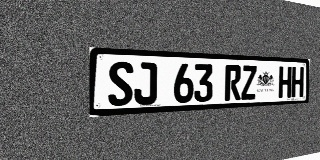3: (194, 64, 213, 102)
6: (174, 63, 194, 103)
H: (278, 66, 292, 98), (291, 67, 304, 98)
J: (134, 62, 157, 105)
R: (225, 65, 241, 101)
S: (108, 61, 133, 106)
Z: (241, 65, 257, 100)
